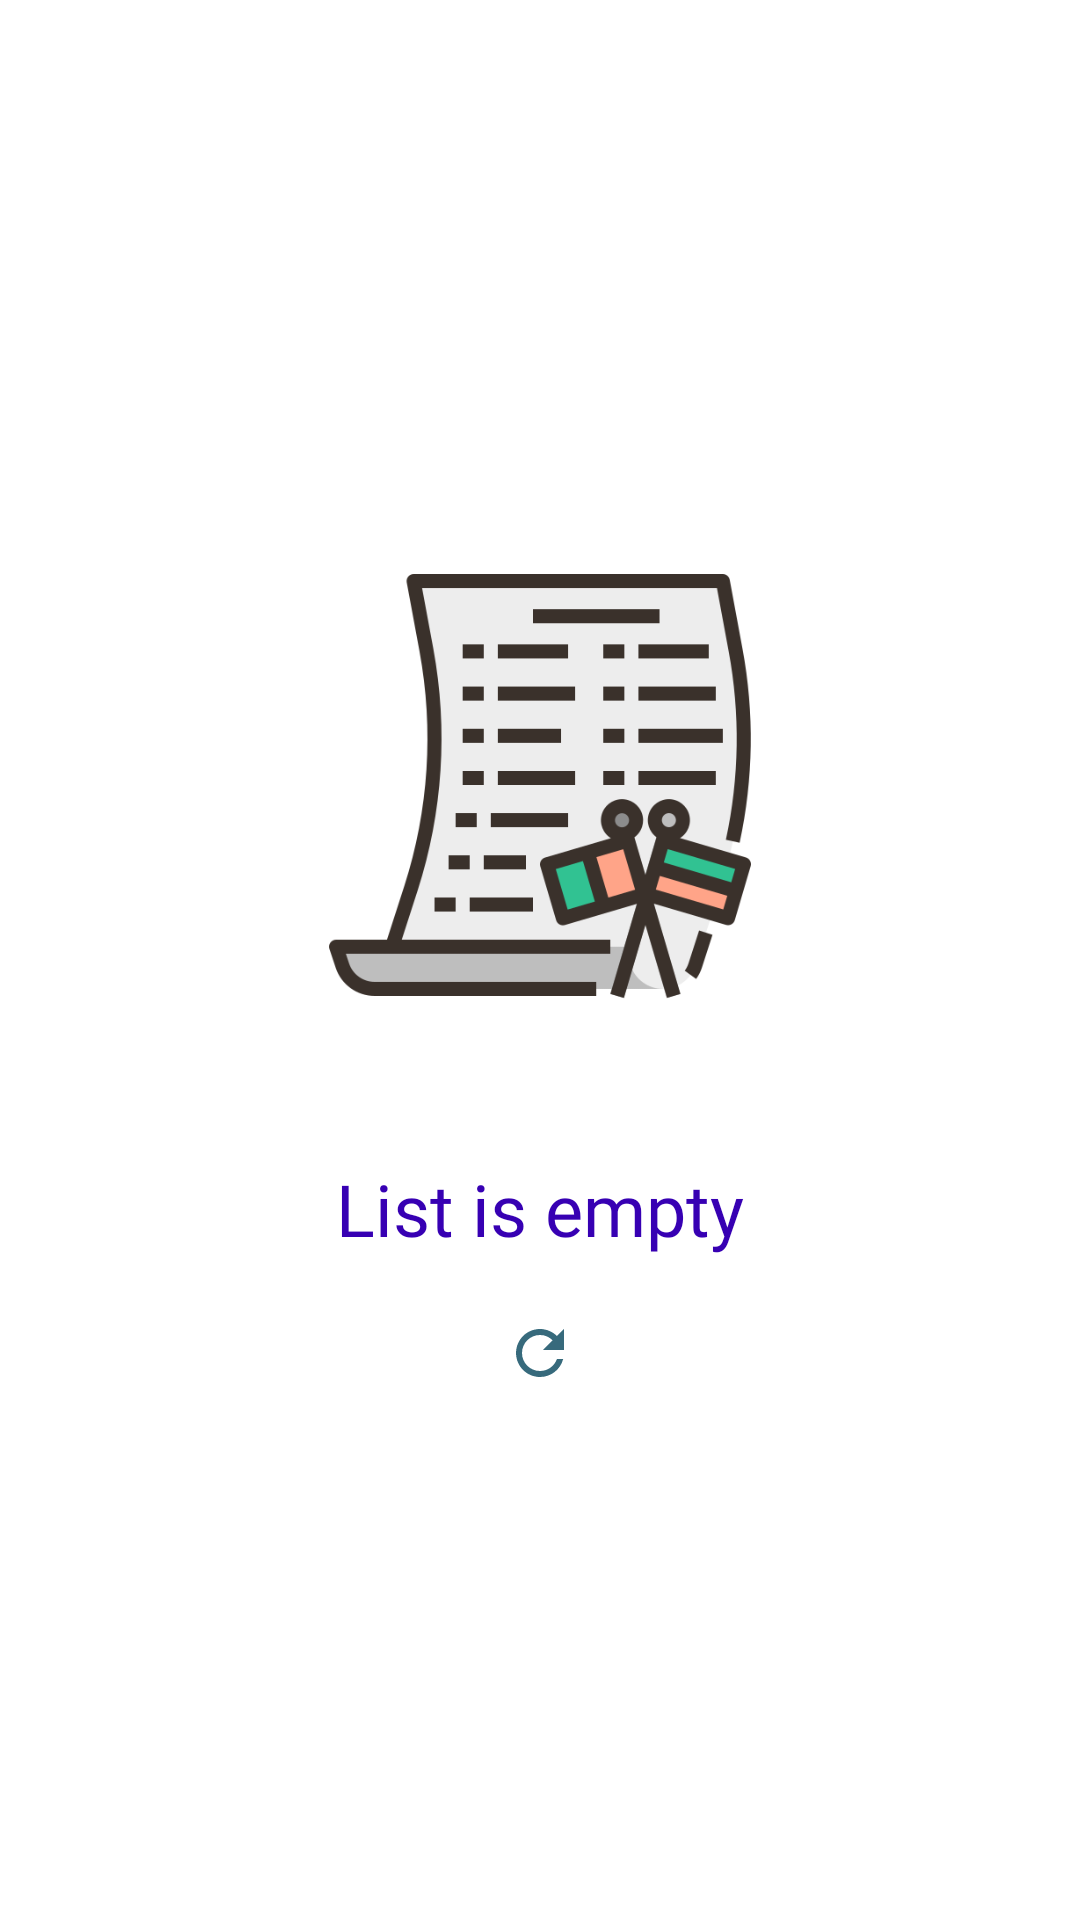

Locate icon controls on the screen. Image size 1080×1920, boxes as (x1=x1, y1=y1, x2=x2, y2=y2).
refresh: (x1=516, y1=1329, x2=564, y2=1377)
